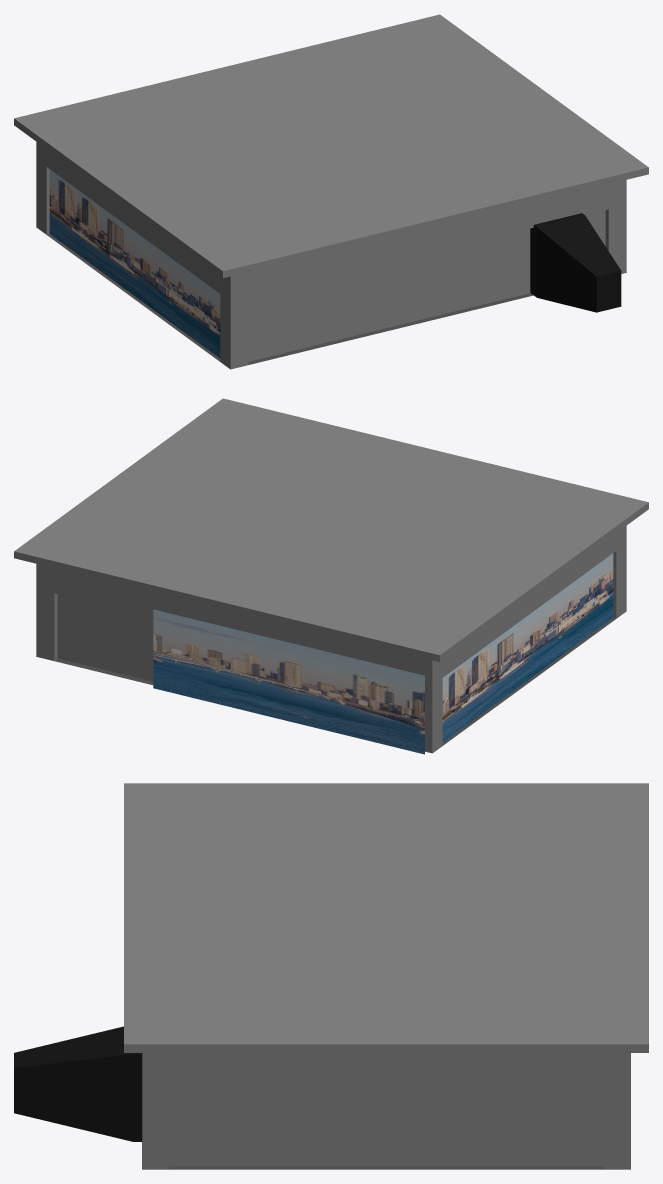
The model's file is training_room.fbx.
The picture shows the model from 3 angles, top to bottom: view 1: azimuth 30°, elevation 25°; view 2: azimuth 150°, elevation 25°; view 3: azimuth 270°, elevation 25°; orthographic projection. The views are drawn at different scales.
Parts seen in each view (by area): view 1: TrainingRoom; view 2: TrainingRoom; view 3: TrainingRoom.
Boxes of the visible parts, left/top/right/bottom form: TrainingRoom: left=14, top=14, right=648, bottom=369; TrainingRoom: left=14, top=398, right=648, bottom=754; TrainingRoom: left=14, top=783, right=648, bottom=1169.
Size of the model in its own units: 2152 by 529 by 2212.
